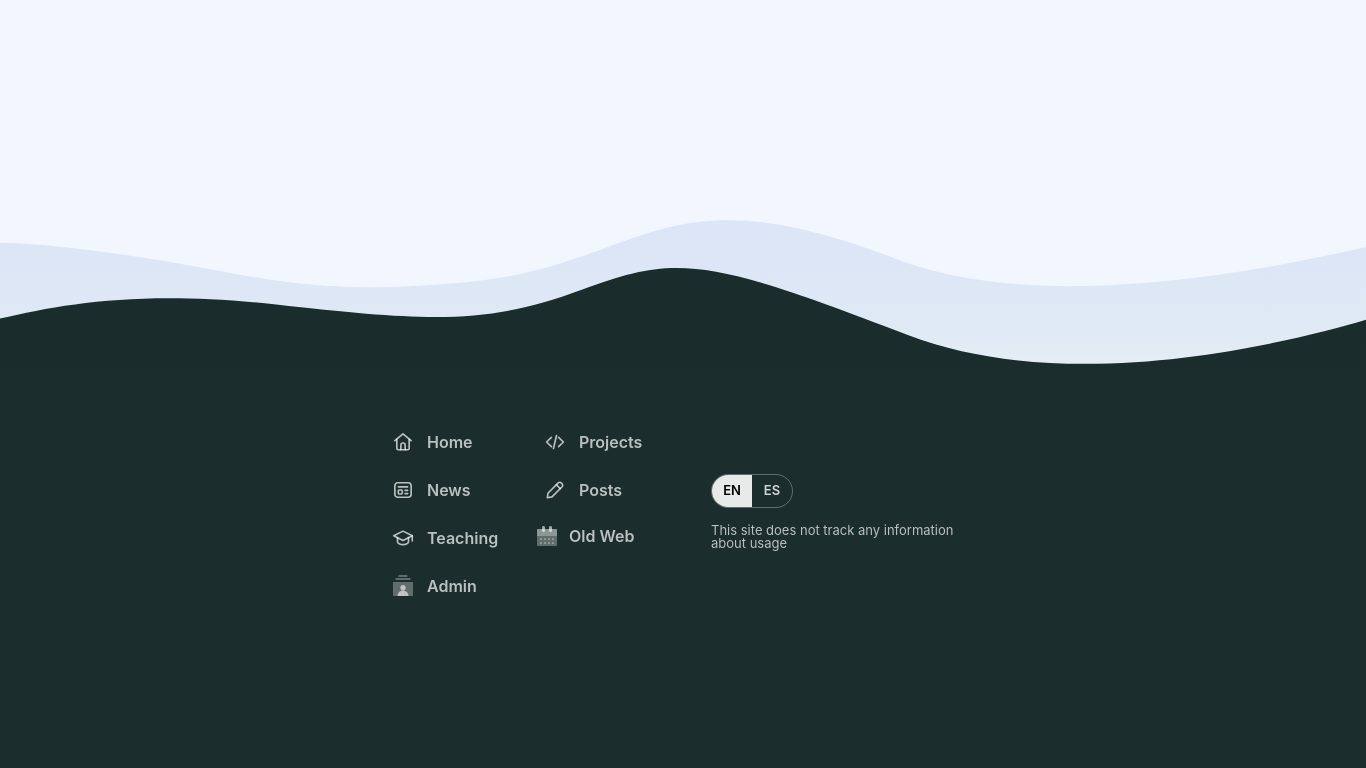
routes › locale routing › switches language from the footer toggle
(page scrolled)
Click the button with aria-label "cambiar a espa": {"x": 772, "y": 491} [752,475,792,507]
(page scrolled)
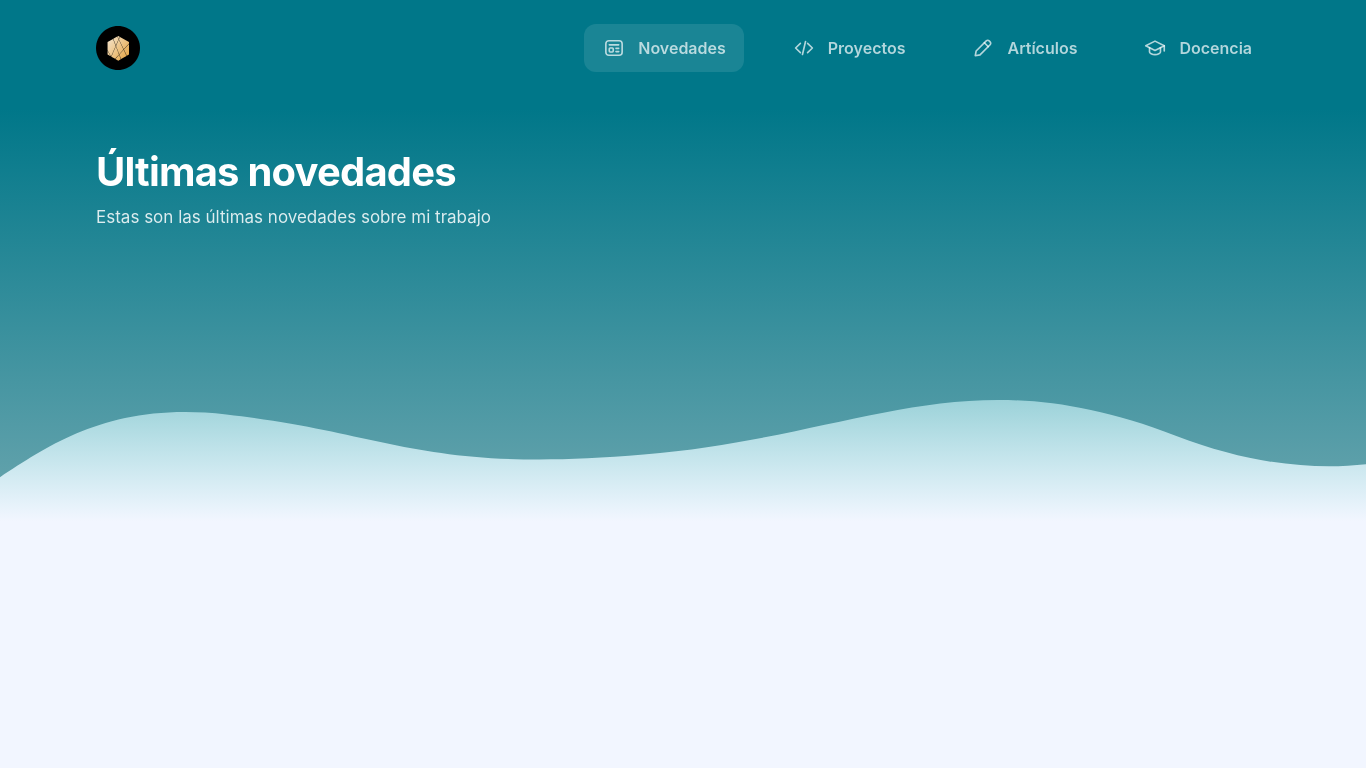
Result: the heading "Últimas novedades" is shown at [96,147,456,196]
